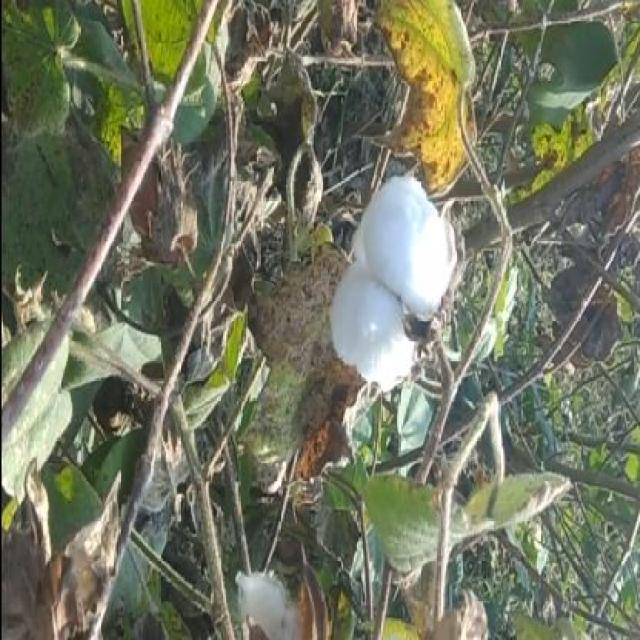cotton_ready: (315, 150, 463, 427)
